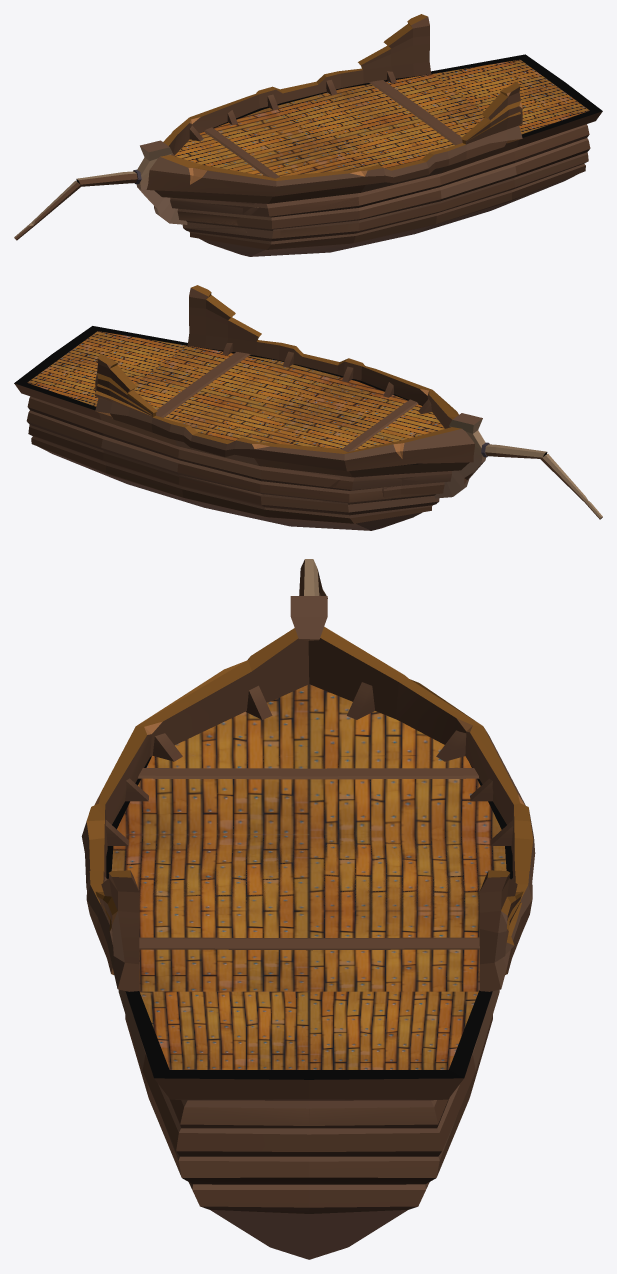
Rendered from Shiip_0_damage_small.fbx.
The picture shows the model from 3 angles, top to bottom: view 1: azimuth 30°, elevation 25°; view 2: azimuth 150°, elevation 25°; view 3: azimuth 270°, elevation 25°; orthographic projection. The views are drawn at different scales.
Visible parts, largest first — view 1: ship hull_damage_small_R, side of the ship_damage_small, ship hull_damage_small_L; view 2: ship hull_damage_small_R, side of the ship_damage_small, ship hull_damage_small_L; view 3: ship hull_damage_small_R, side of the ship_damage_small, ship hull_damage_small_L.
Boxes of the visible parts, box(x1,y1,x2,y2) form: ship hull_damage_small_R: box(162, 54, 602, 256); side of the ship_damage_small: box(14, 14, 522, 240); ship hull_damage_small_L: box(154, 88, 588, 256); ship hull_damage_small_R: box(14, 326, 467, 530); side of the ship_damage_small: box(94, 285, 602, 519); ship hull_damage_small_L: box(29, 360, 469, 530); ship hull_damage_small_R: box(111, 684, 506, 1259); side of the ship_damage_small: box(81, 559, 535, 991); ship hull_damage_small_L: box(106, 755, 512, 1184).
Bounding box in the file's own units: 1085 × 312 × 389.
